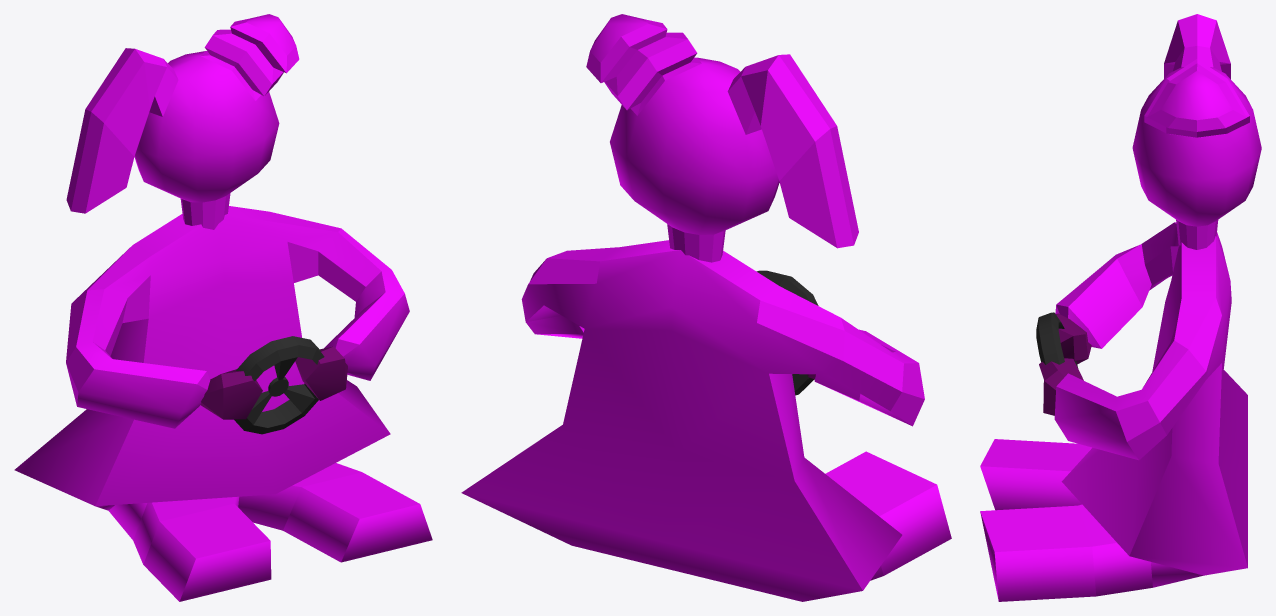
Rendered from character-parsche-sport-green_3.fbx.
The picture shows the model from 3 angles, left to right: view 1: azimuth 30°, elevation 25°; view 2: azimuth 150°, elevation 25°; view 3: azimuth 270°, elevation 25°; orthographic projection. The views are drawn at different scales.
Parts seen in each view (by area): view 1: character-parsche-sport-green_3; view 2: character-parsche-sport-green_3; view 3: character-parsche-sport-green_3.
Part boxes in pixels (x1,y1,x2,y2): character-parsche-sport-green_3: [14, 14, 432, 601]; character-parsche-sport-green_3: [461, 14, 951, 601]; character-parsche-sport-green_3: [980, 14, 1261, 601].
Size of the model in its own units: 0.7599 by 0.523 by 0.996.
